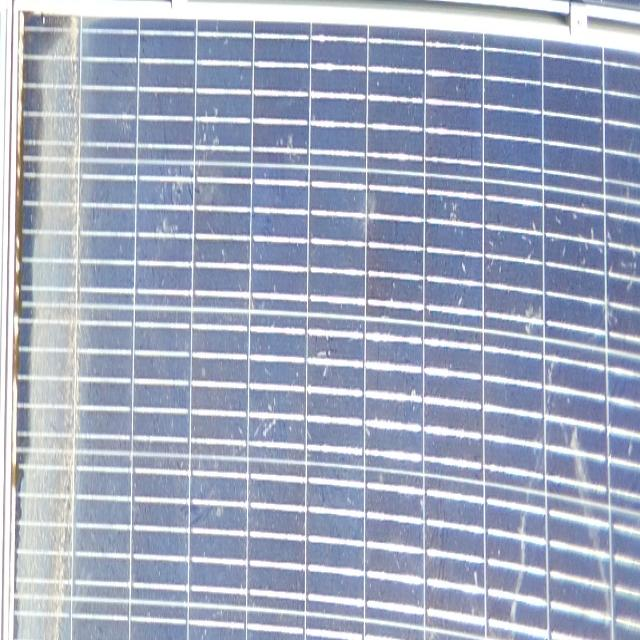Dust: (187, 134, 638, 617), (13, 0, 86, 640), (502, 355, 621, 640)
